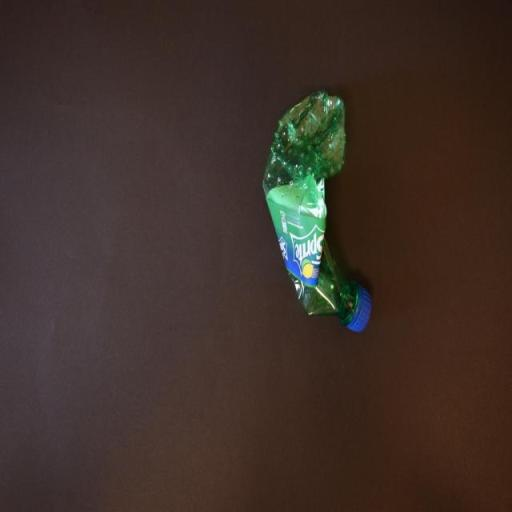plastic: (264, 90, 372, 336)
